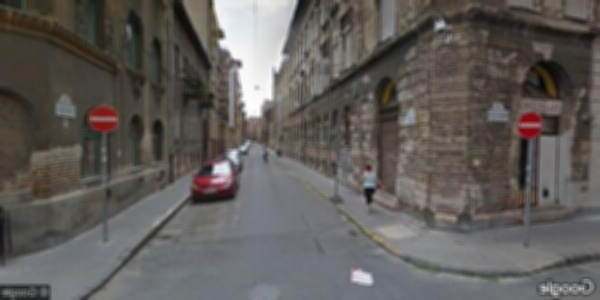d_no_entry: (86, 105, 120, 134), (516, 111, 543, 140)
